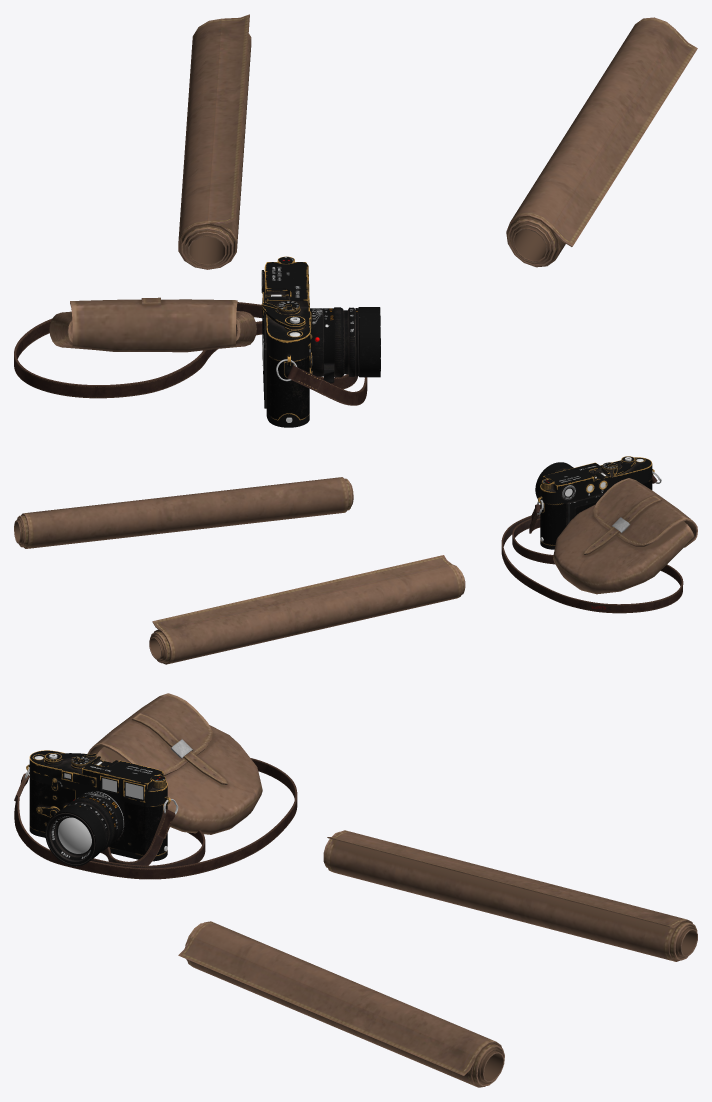
The picture shows the model from 3 angles, top to bottom: view 1: azimuth 30°, elevation 25°; view 2: azimuth 150°, elevation 25°; view 3: azimuth 270°, elevation 25°; orthographic projection. The views are drawn at different scales.
Visible parts, largest first — view 1: Leather roll long.001, Camera_01, Leather roll long, Leather bag; view 2: Leather roll long, Leather roll long.001, Leather bag, Camera_01; view 3: Camera_01, Leather roll long, Leather roll long.001, Leather bag.
Boxes of the visible parts, <box> form: Leather roll long.001: <box>506,17,697,267</box>; Camera_01: <box>14,256,380,427</box>; Leather roll long: <box>178,14,251,269</box>; Leather bag: <box>49,297,256,352</box>; Leather roll long: <box>149,555,465,664</box>; Leather roll long.001: <box>14,477,353,548</box>; Leather bag: <box>553,478,697,594</box>; Camera_01: <box>501,456,683,613</box>; Camera_01: <box>14,750,297,879</box>; Leather roll long: <box>323,830,697,961</box>; Leather roll long.001: <box>178,921,504,1087</box>; Leather bag: <box>87,693,262,834</box>.
Bounding box in the file's own units: 70.6 × 8.3 × 61.34.
Materials: 6 (5 with a texture image).
